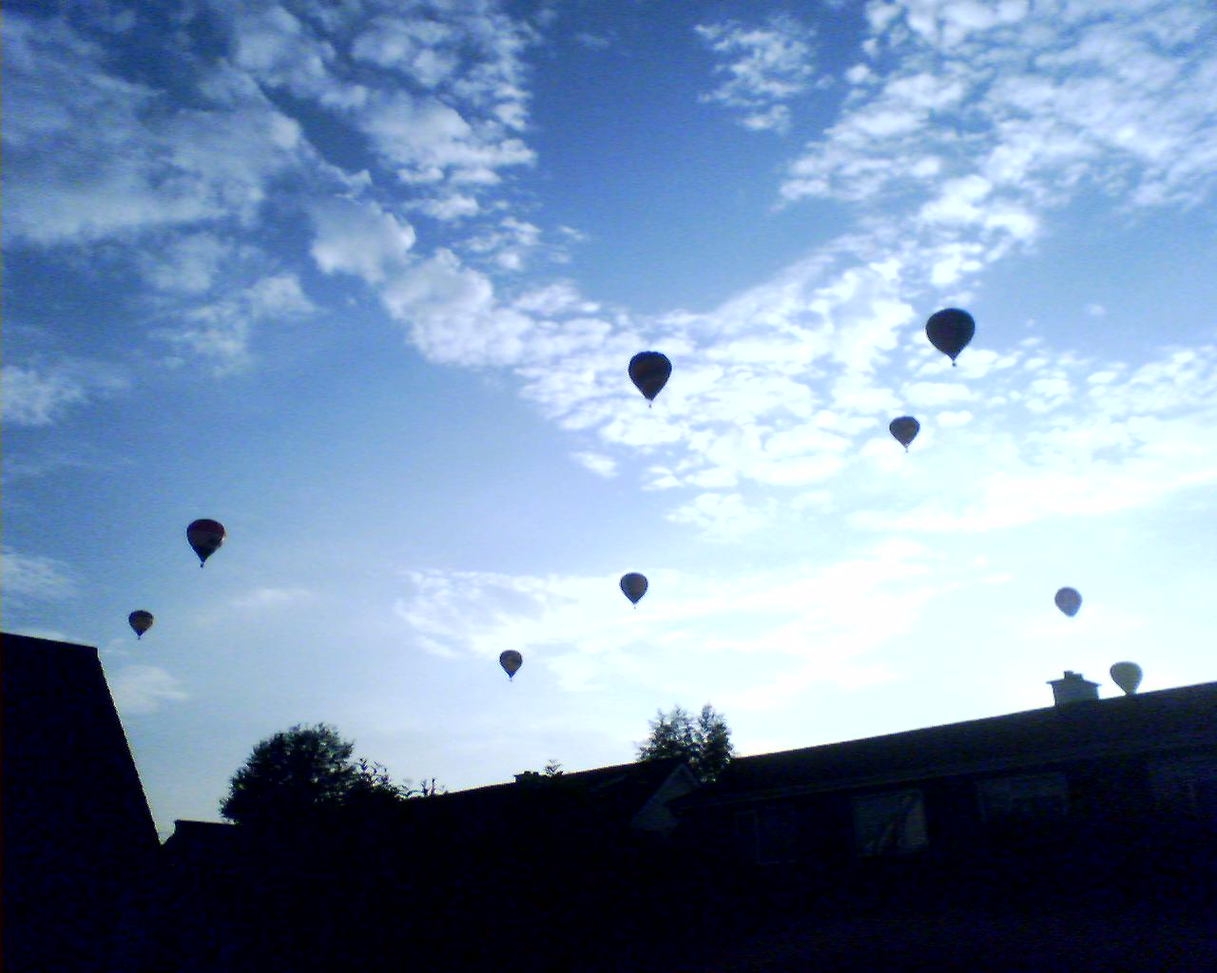balloon: (925, 307, 976, 367), (628, 349, 673, 403), (186, 518, 226, 567), (1109, 661, 1144, 697), (888, 414, 921, 450), (619, 572, 650, 606), (1054, 586, 1083, 618), (498, 648, 525, 681), (128, 609, 156, 640)
